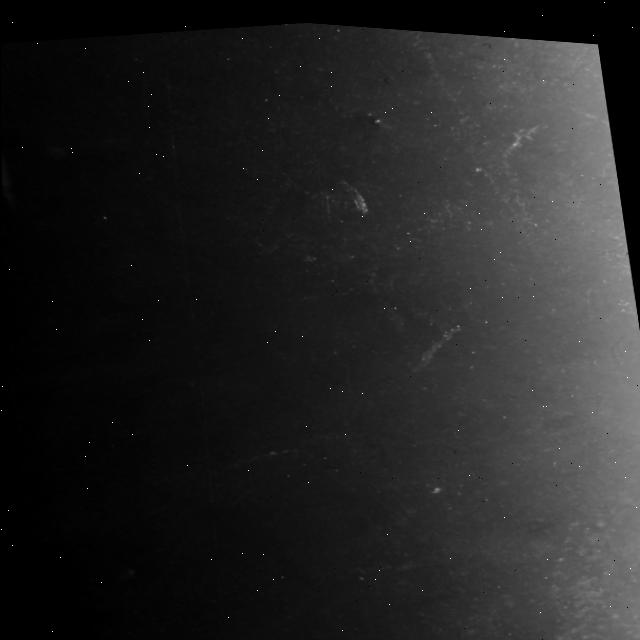beta: (401, 23, 550, 250), (144, 432, 313, 497), (37, 574, 103, 640)
